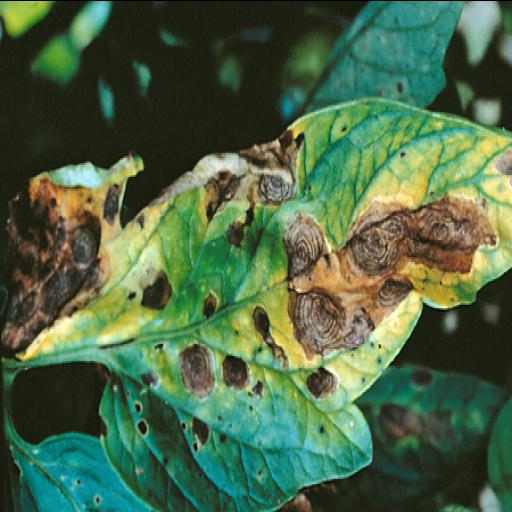Early Blight: (0, 106, 512, 512)
